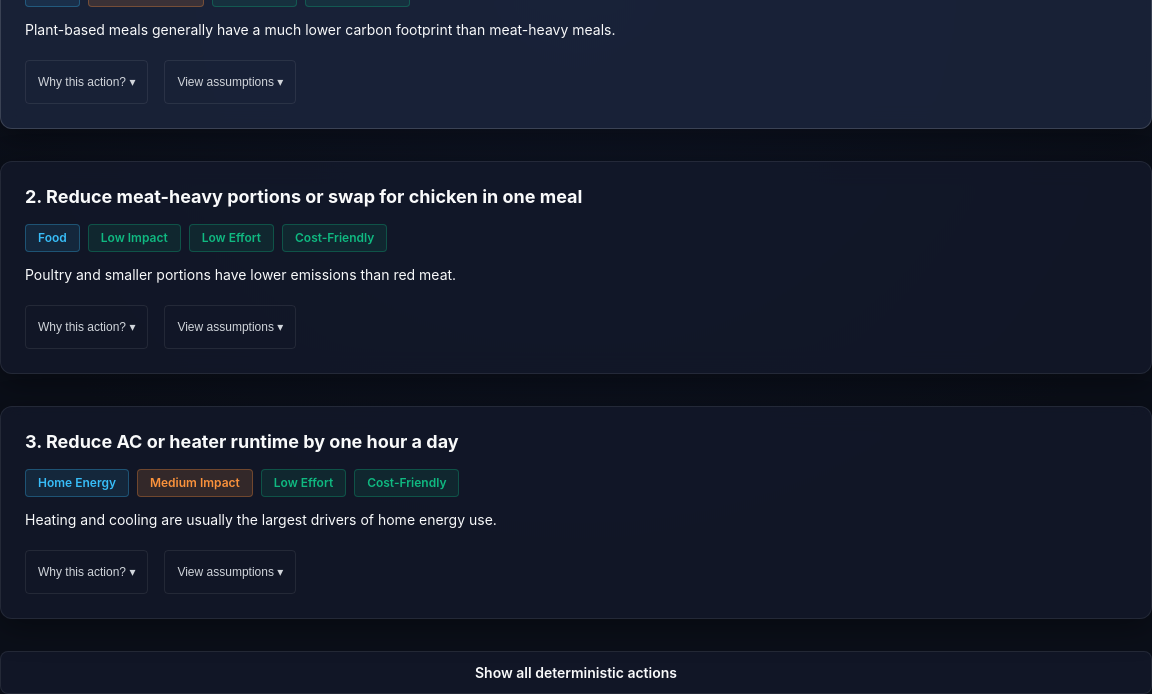
Scenario: RecommendationPanel Component › renders deterministic reduction only when present
The image size is (1152, 694).
(page scrolled)
# Expand recommendations
Click the button "Show all deterministic actions".
click(576, 672)  # box 0,651 -> 1151,693
(page scrolled)
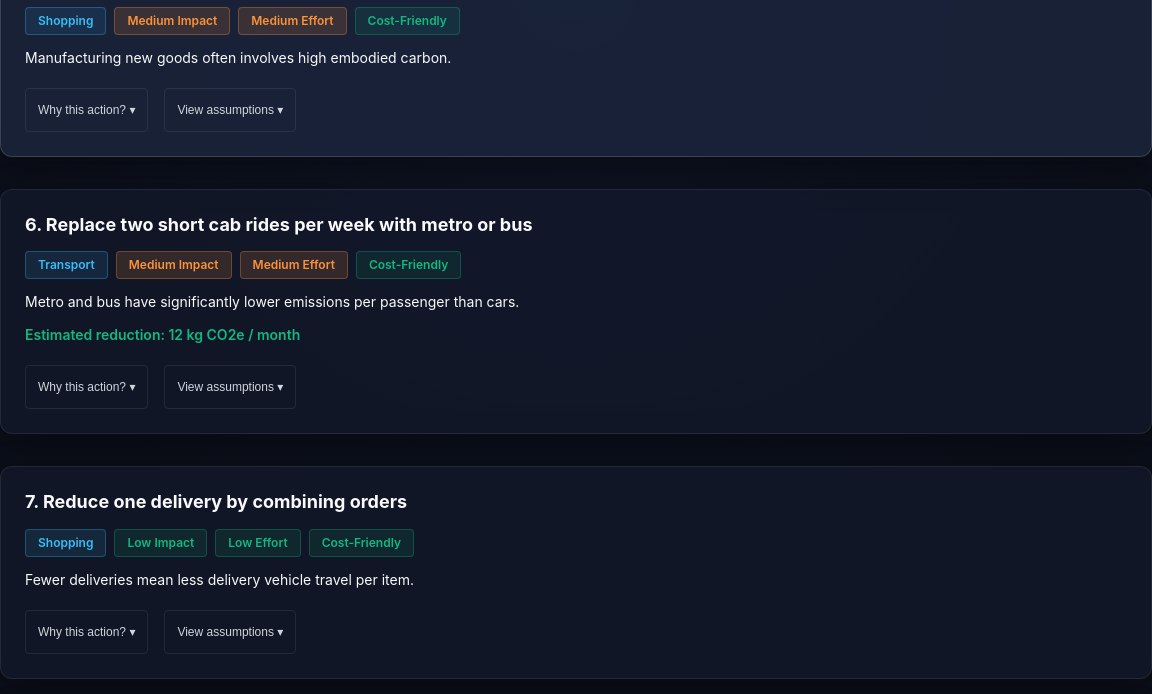
Expected: the text "Estimated reduction: 12 kg CO2e / month" is shown, 25,326 -> 300,343
